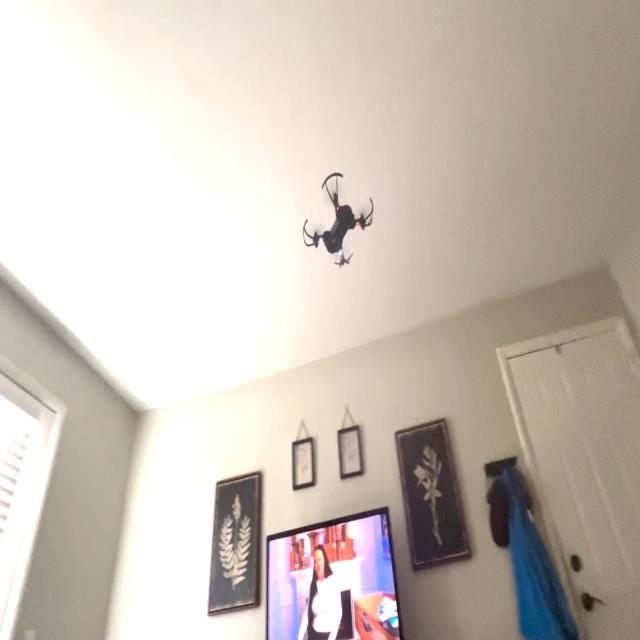drone: (297, 162, 380, 280)
